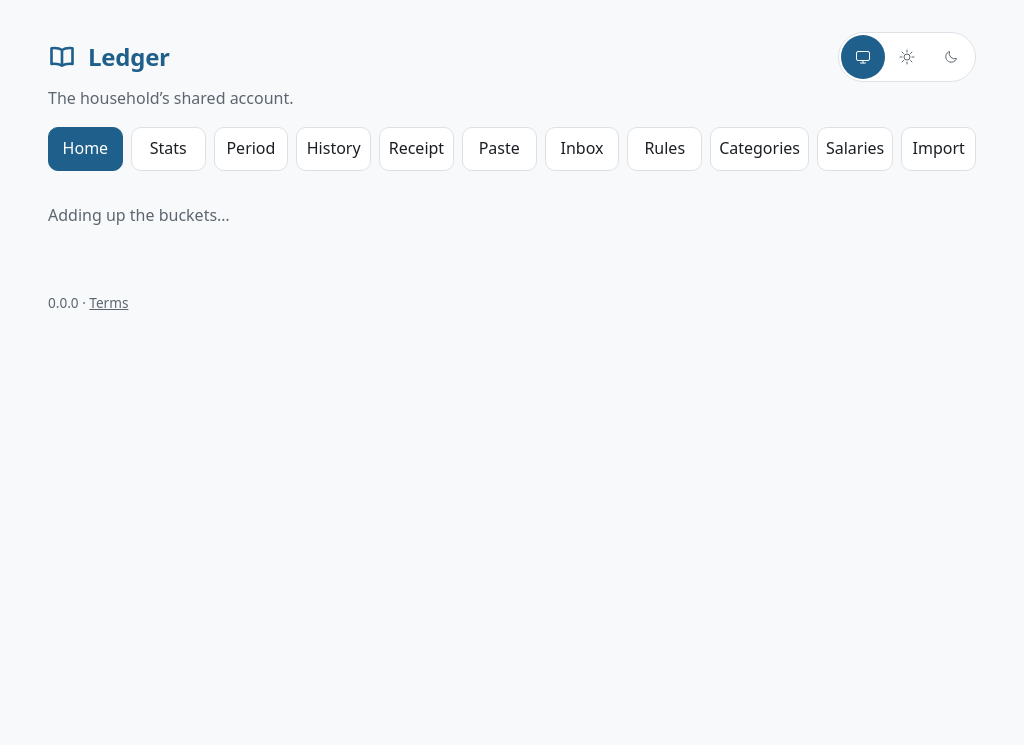
Test: the period tab shows the period screen
This screenshot has width=1024, height=745.
Click the button "Period" at coordinates (251, 149), box [214,127,288,171]
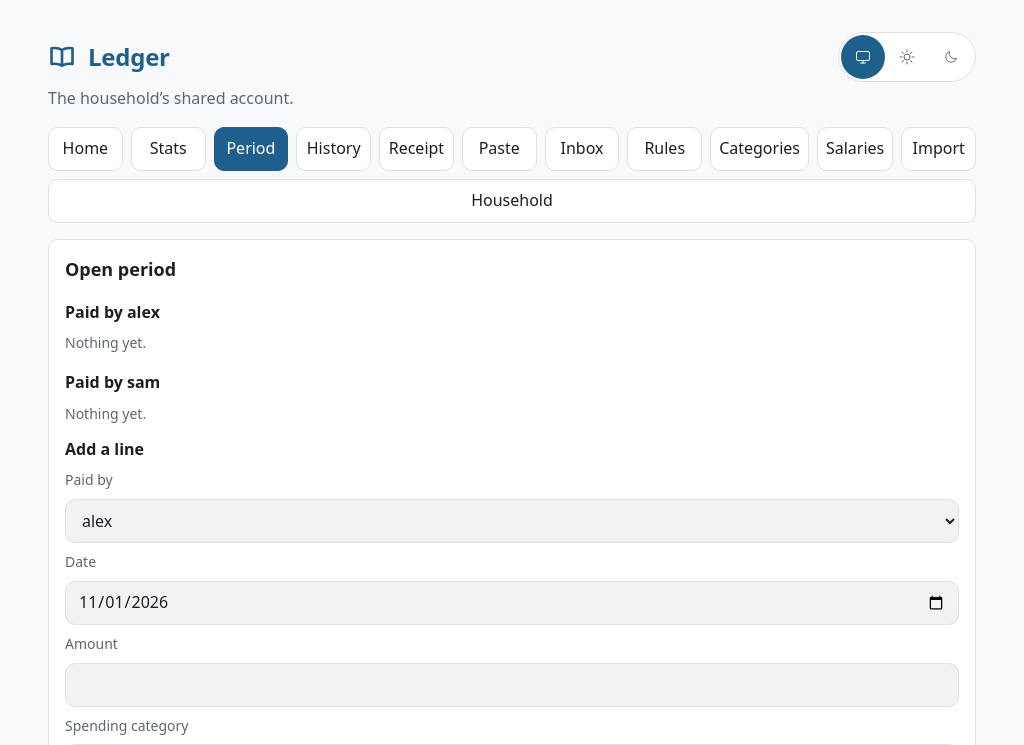
Expected: the heading "Open period" is shown, [65,257,176,281]
